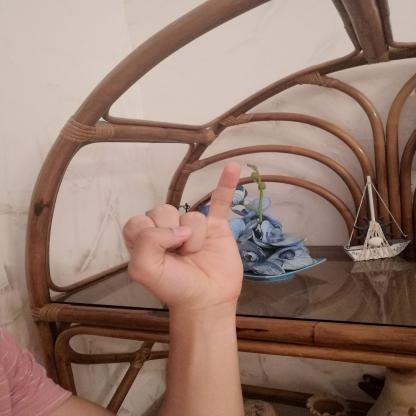MEEM: (107, 148, 263, 324)
